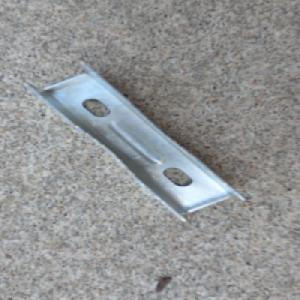ClampPart: (18, 57, 246, 223)
